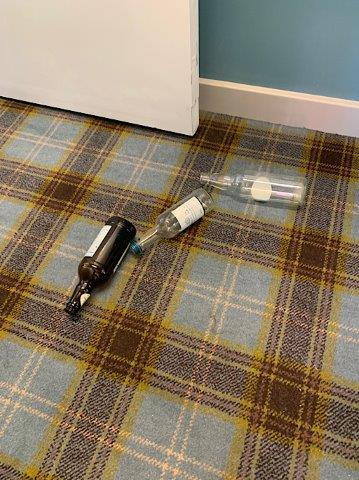botolkaca: (66, 218, 135, 312), (133, 189, 214, 254), (201, 170, 308, 209)
